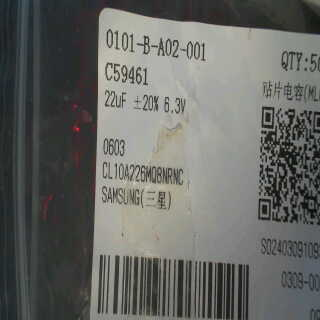22uF: (100, 89, 131, 111)
